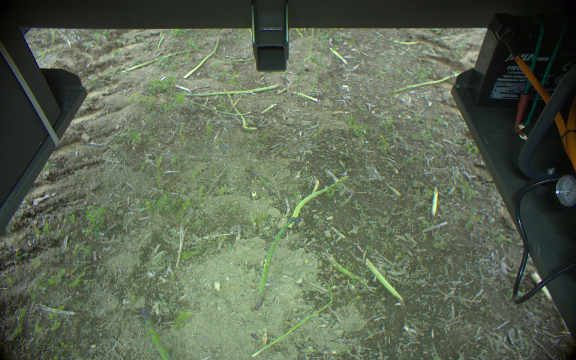aspa: (253, 213, 303, 311), (291, 172, 350, 219), (362, 254, 401, 303), (136, 304, 170, 360), (182, 36, 223, 81), (321, 250, 368, 286), (181, 82, 279, 98)
